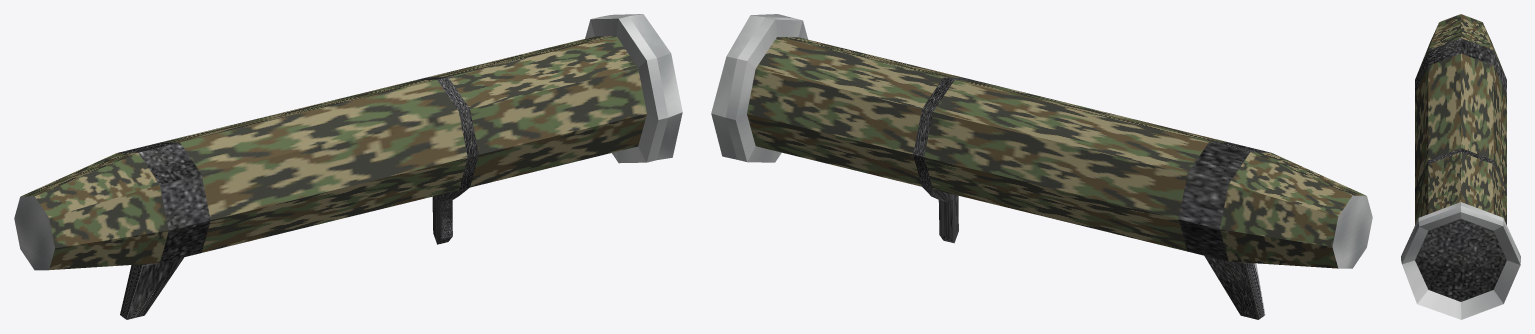
The model's file is bazooka.glb.
3 renders of one model, left to right at view 1: azimuth 30°, elevation 25°; view 2: azimuth 150°, elevation 25°; view 3: azimuth 270°, elevation 25°, orthographic. The views are drawn at different scales.
Visible parts, largest first — view 1: Bazooka; view 2: Bazooka; view 3: Bazooka.
Part boxes in pixels (x1,y1,x2,y2): Bazooka: [14, 14, 682, 319]; Bazooka: [711, 14, 1372, 319]; Bazooka: [1401, 14, 1520, 319].
Bounding box in the file's own units: 4.02 × 1.15 × 0.9119.
Materials: 1 (1 with a texture image).
